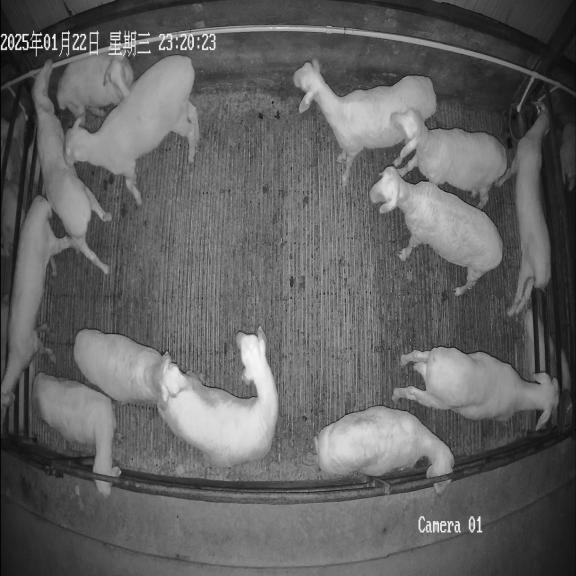drinking: (497, 100, 551, 316)
stand: (66, 55, 199, 205), (293, 59, 436, 186), (2, 196, 85, 410), (369, 167, 502, 296), (158, 326, 279, 467), (32, 61, 111, 274), (392, 347, 558, 430), (314, 406, 454, 493), (393, 109, 507, 208), (33, 373, 121, 497), (73, 329, 186, 403), (56, 54, 134, 125)
